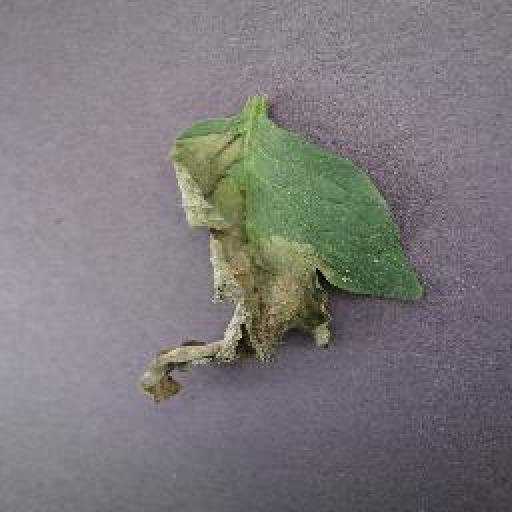Late Blight: (133, 111, 431, 409)
